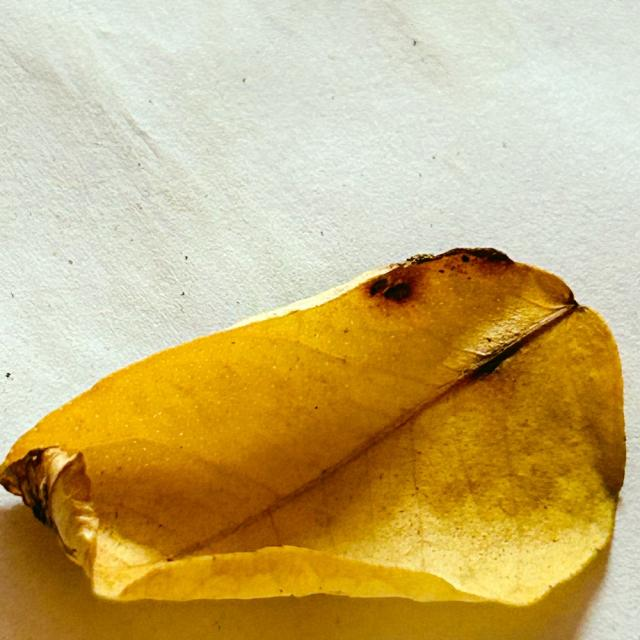DryLeaf_Lemon: (0, 248, 625, 605)
